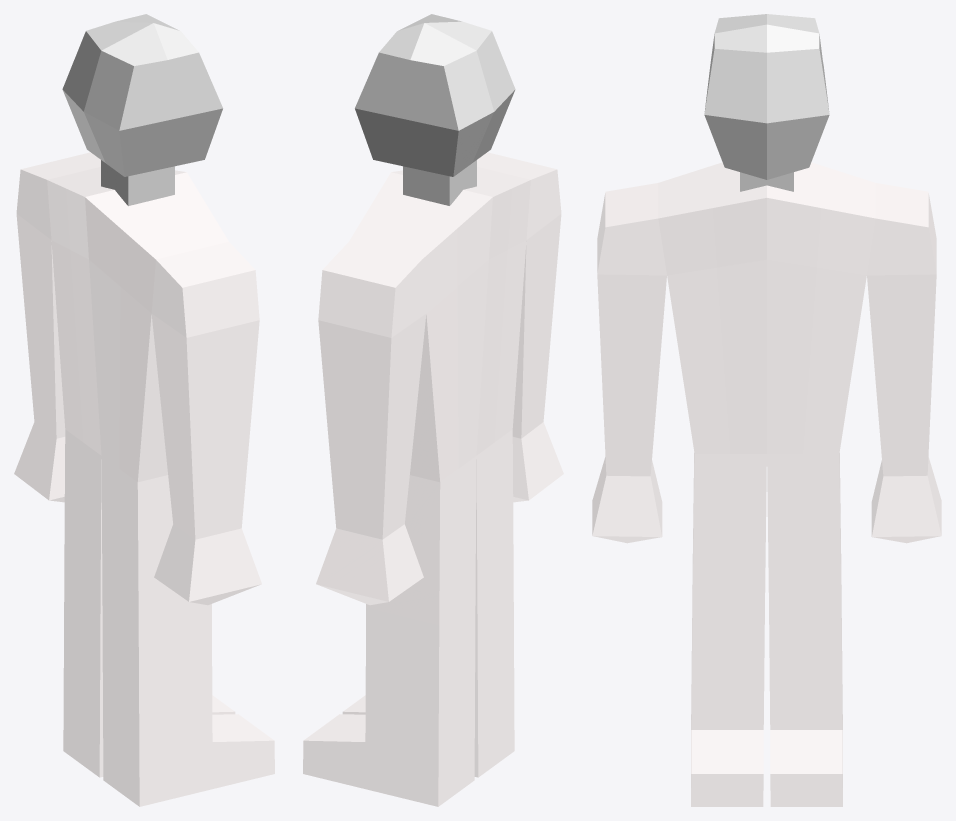
File: man_shaded.glb
The picture shows the model from 3 angles, left to right: view 1: azimuth 30°, elevation 25°; view 2: azimuth 150°, elevation 25°; view 3: azimuth 270°, elevation 25°; orthographic projection.
Parts seen in each view (by area): view 1: Cube.002; view 2: Cube.002; view 3: Cube.002.
Boxes of the visible parts, x1,y1,x2,y2 form: Cube.002: (14,14,274,806); Cube.002: (303,14,563,806); Cube.002: (592,14,941,806).
Bounding box in the file's own units: 0.469 × 2.18 × 0.9284.
Materials: 2 (1 with a texture image).
